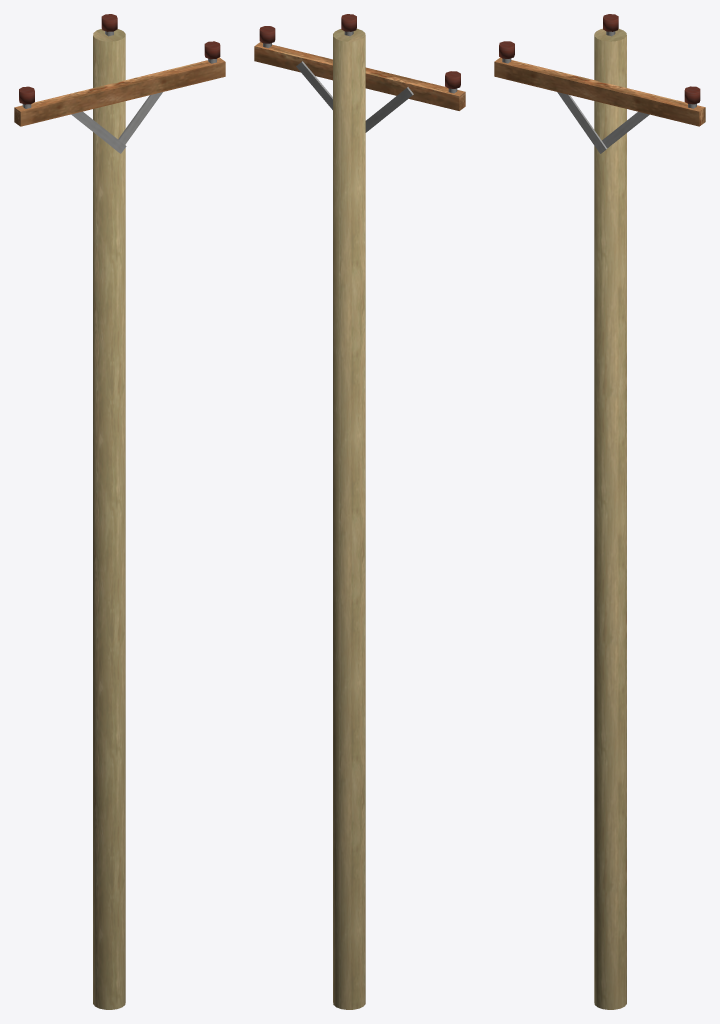
File: power-pole-cbj_LOD00.gltf
3 renders of one model, left to right at view 1: azimuth 30°, elevation 25°; view 2: azimuth 150°, elevation 25°; view 3: azimuth 330°, elevation 25°, orthographic.
Visible parts, largest first — view 1: power-pole0; view 2: power-pole0; view 3: power-pole0.
Boxes of the visible parts, x1,y1,x2,y2 form: power-pole0: (14, 14, 225, 1009); power-pole0: (254, 14, 465, 1009); power-pole0: (494, 14, 705, 1009).
Size of the model in its own units: 2.88 by 13.23 by 0.5584.
